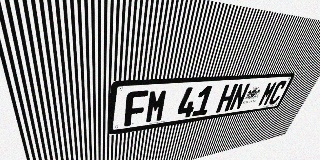1: (192, 85, 215, 116)
4: (176, 87, 200, 119)
C: (267, 80, 288, 105)
F: (124, 90, 149, 127)
H: (216, 84, 238, 113)
M: (145, 89, 169, 124), (257, 81, 278, 107)
N: (228, 83, 251, 111)
